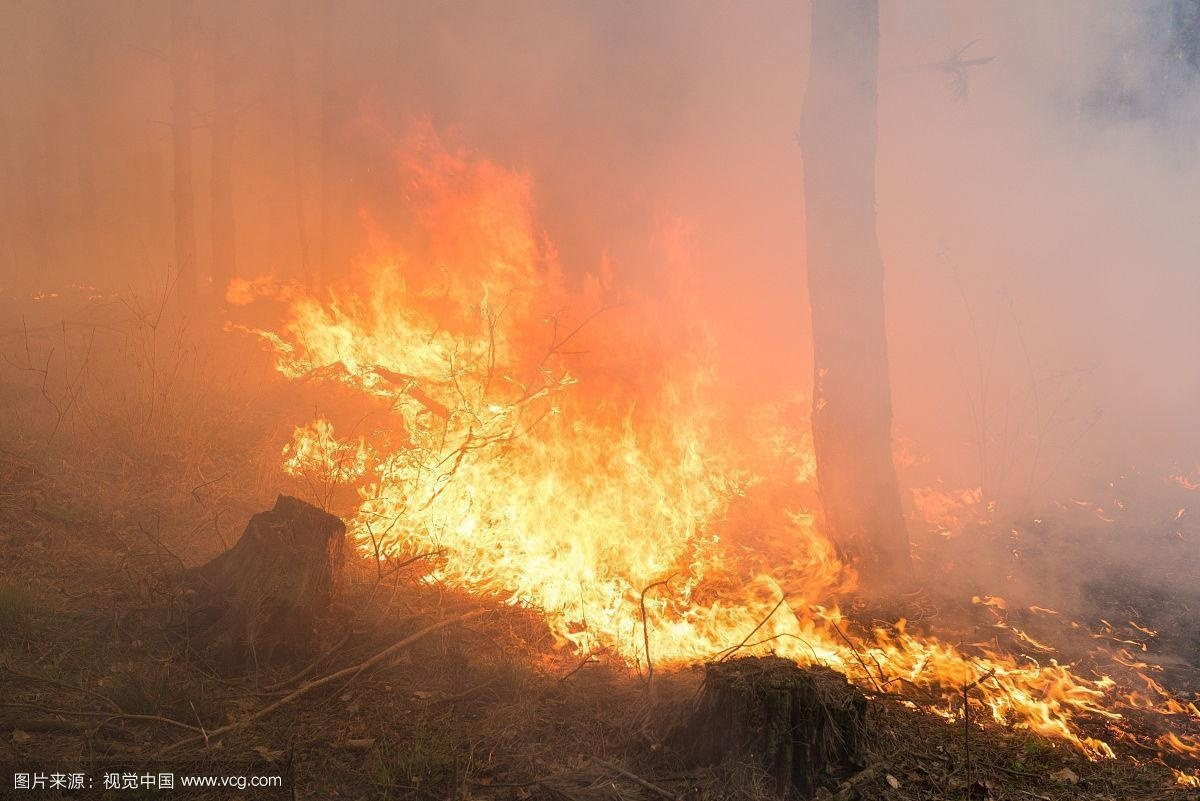fire: (261, 147, 1011, 694)
